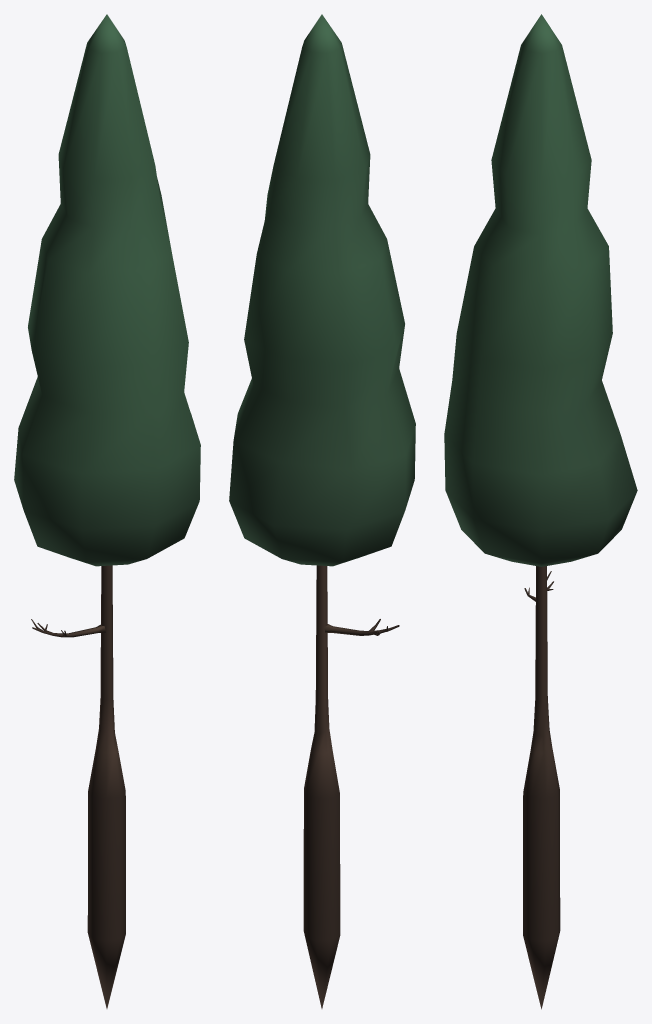
File: trees-conifers-cypress-tree_v1.fbx
3 renders of one model, left to right at view 1: azimuth 30°, elevation 25°; view 2: azimuth 150°, elevation 25°; view 3: azimuth 270°, elevation 25°, orthographic.
Parts seen in each view (by area): view 1: Cypress Tree_v1; view 2: Cypress Tree_v1; view 3: Cypress Tree_v1.
Part boxes in pixels (x1,y1,x2,y2): Cypress Tree_v1: (14,14,200,1008); Cypress Tree_v1: (229,14,415,1008); Cypress Tree_v1: (444,14,637,1009).
Size of the model in its own units: 2.65 by 15 by 2.64.
